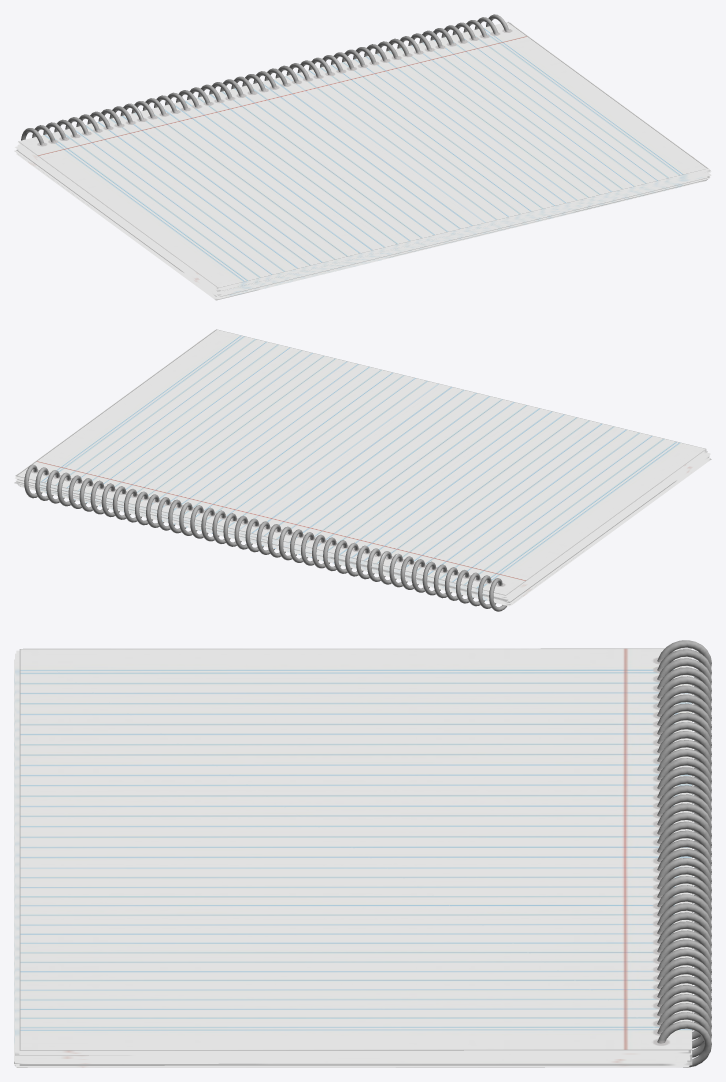
File: spiral_Notebook.fbx
The picture shows the model from 3 angles, top to bottom: view 1: azimuth 30°, elevation 25°; view 2: azimuth 150°, elevation 25°; view 3: azimuth 270°, elevation 25°; orthographic projection. The views are drawn at different scales.
Parts seen in each view (by area): view 1: SM_notebook_papers.109_5, SM_spirals_main.003_0, SM_notebook_papers.119_15, SM_notebook_papers.125_21, SM_notebook_papers.110_6, SM_notebook_papers.105_1, SM_notebook_papers.138_34, SM_notebook_papers.111_7, SM_notebook_papers.121_17, SM_notebook_papers.118_14, SM_notebook_papers.115_11, SM_notebook_papers.117_13 (+4 smaller); view 2: SM_notebook_papers.109_5, SM_spirals_main.003_0, SM_notebook_papers.117_13, SM_notebook_papers.119_15, SM_notebook_papers.112_8, SM_notebook_papers.127_23, SM_notebook_papers.131_27, SM_notebook_papers.126_22, SM_notebook_papers.106_2, SM_notebook_papers.107_3, SM_notebook_papers.137_33, SM_notebook_papers.108_4 (+3 smaller); view 3: SM_notebook_papers.109_5, SM_spirals_main.003_0, SM_notebook_papers.110_6, SM_notebook_papers.115_11, SM_notebook_papers.118_14, SM_notebook_papers.134_30, SM_notebook_papers.111_7, SM_notebook_papers.120_16, SM_notebook_papers.106_2, SM_notebook_papers.108_4, SM_notebook_papers.129_25, SM_notebook_papers.136_32 (+4 smaller).
Boxes of the visible parts, left/top/right/bottom form: SM_notebook_papers.109_5: left=18, top=22, right=707, bottom=287; SM_spirals_main.003_0: left=21, top=14, right=509, bottom=145; SM_notebook_papers.119_15: left=15, top=146, right=704, bottom=293; SM_notebook_papers.125_21: left=18, top=150, right=707, bottom=296; SM_notebook_papers.110_6: left=27, top=148, right=709, bottom=289; SM_notebook_papers.105_1: left=16, top=153, right=705, bottom=300; SM_notebook_papers.138_34: left=217, top=178, right=708, bottom=298; SM_notebook_papers.111_7: left=220, top=170, right=710, bottom=290; SM_notebook_papers.121_17: left=216, top=173, right=706, bottom=294; SM_notebook_papers.118_14: left=220, top=173, right=710, bottom=294; SM_notebook_papers.115_11: left=220, top=171, right=710, bottom=291; SM_notebook_papers.117_13: left=18, top=144, right=220, bottom=291; SM_notebook_papers.109_5: left=16, top=329, right=706, bottom=595; SM_spirals_main.003_0: left=24, top=464, right=506, bottom=611; SM_notebook_papers.117_13: left=18, top=451, right=707, bottom=597; SM_notebook_papers.119_15: left=508, top=453, right=710, bottom=599; SM_notebook_papers.112_8: left=17, top=453, right=706, bottom=599; SM_notebook_papers.127_23: left=19, top=456, right=709, bottom=602; SM_notebook_papers.131_27: left=20, top=457, right=710, bottom=604; SM_notebook_papers.126_22: left=17, top=480, right=508, bottom=600; SM_notebook_papers.106_2: left=15, top=329, right=505, bottom=595; SM_notebook_papers.107_3: left=17, top=450, right=706, bottom=596; SM_notebook_papers.137_33: left=19, top=486, right=510, bottom=606; SM_notebook_papers.108_4: left=15, top=476, right=505, bottom=596; SM_notebook_papers.109_5: left=19, top=648, right=691, bottom=1050; SM_spirals_main.003_0: left=657, top=640, right=711, bottom=1067; SM_notebook_papers.110_6: left=16, top=650, right=688, bottom=1052; SM_notebook_papers.115_11: left=17, top=1055, right=689, bottom=1058; SM_notebook_papers.118_14: left=14, top=659, right=686, bottom=1061; SM_notebook_papers.134_30: left=19, top=1056, right=692, bottom=1065; SM_notebook_papers.111_7: left=15, top=653, right=686, bottom=1055; SM_notebook_papers.120_16: left=15, top=1061, right=687, bottom=1063; SM_notebook_papers.106_2: left=18, top=1050, right=690, bottom=1053; SM_notebook_papers.108_4: left=19, top=1052, right=691, bottom=1054; SM_notebook_papers.129_25: left=17, top=1064, right=689, bottom=1066; SM_notebook_papers.136_32: left=16, top=1066, right=687, bottom=1067.
Size of the model in its own units: 30.08 by 1.72 by 21.8.
